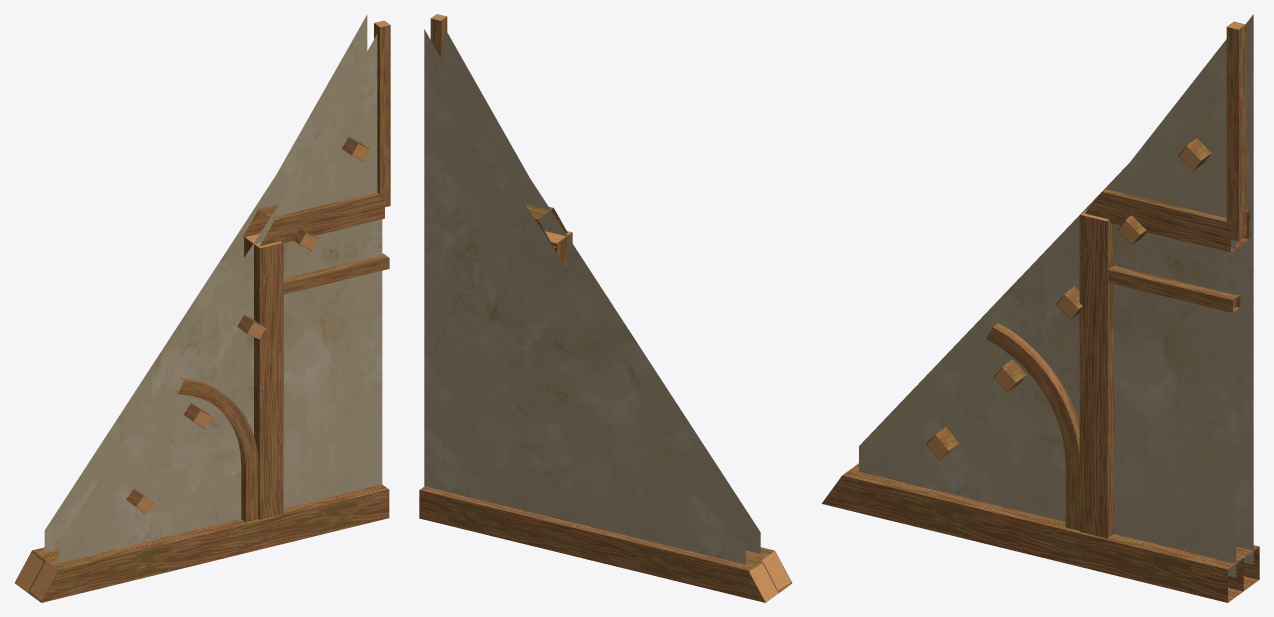
The model's file is Roof_Front_Brick6_Half_L.gltf.
3 views of the same model, side by side, from view 1: azimuth 30°, elevation 25°; view 2: azimuth 150°, elevation 25°; view 3: azimuth 330°, elevation 25° (orthographic). The views are drawn at different scales.
Visible parts, largest first — view 1: Roof_Front_Brick6_Half_L; view 2: Roof_Front_Brick6_Half_L; view 3: Roof_Front_Brick6_Half_L.
Part boxes in pixels (left/top/right/bottom): Roof_Front_Brick6_Half_L: left=15, top=15, right=390, bottom=602; Roof_Front_Brick6_Half_L: left=419, top=14, right=792, bottom=602; Roof_Front_Brick6_Half_L: left=821, top=14, right=1259, bottom=602.
Size of the model in its own units: 3.41 by 4.52 by 0.4896.
Materials: 2 (2 with a texture image).
